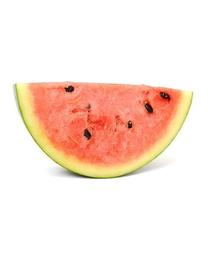watermelon: (12, 80, 194, 179)
